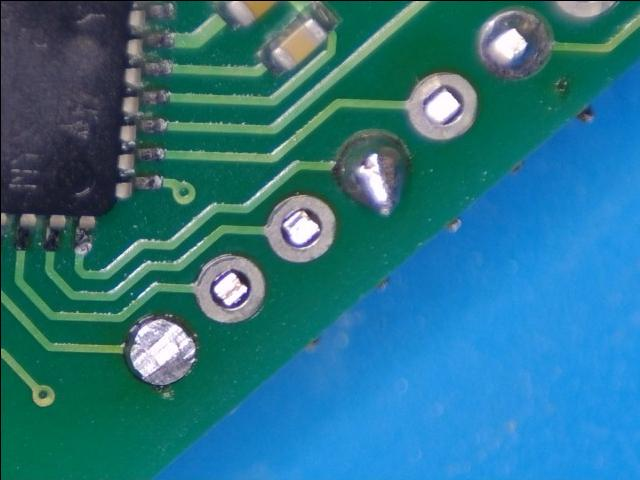Dry_joint: (333, 135, 408, 215), (480, 12, 549, 79)
